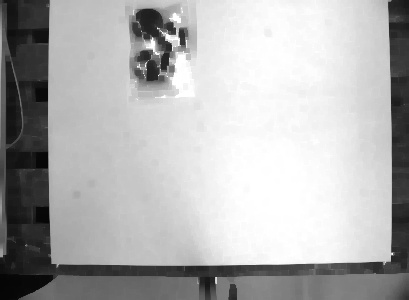t1: (122, 1, 200, 101)
